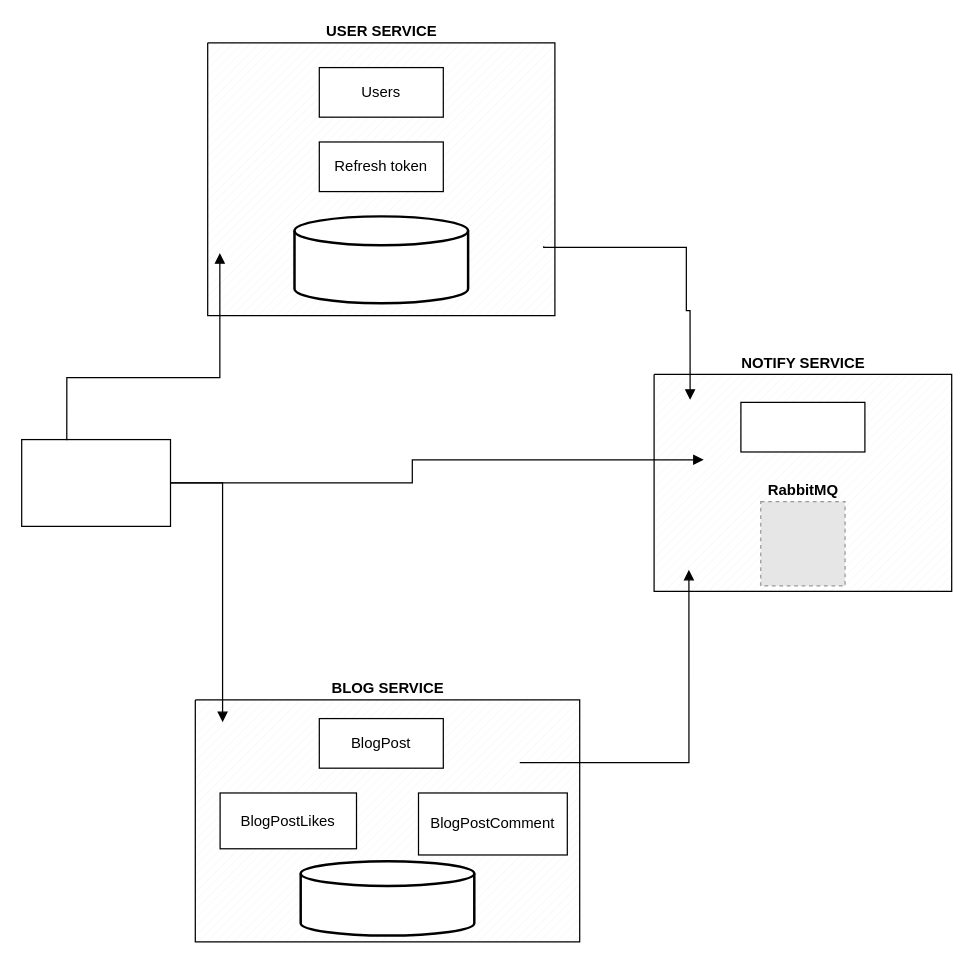
This 973x963 diagram has some shape labels left out. Grey dashed boxes stand in for pictures. The centre of each missing label's shape, as x and y in pixels:
"API Gateway / BFF" goes at (x=95, y=482).
"Email notifications" goes at (x=802, y=426).
"MongoDB" goes at (x=381, y=259).
"Postgres" goes at (x=387, y=897).
